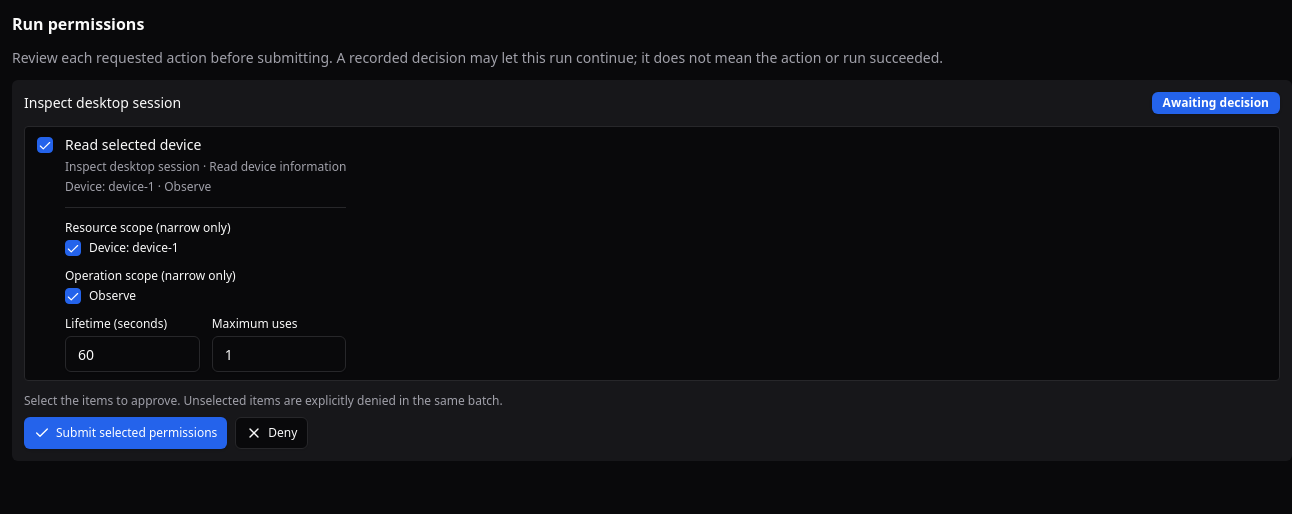
Test: scheduled run permission submission › does not retry an uncertain submission and reloads its durable state
What coordinates should you click on to do the following:
click the button "Submit selected permissions"
I would click on:
 (126, 433)
Its box is [24,417,227,449].
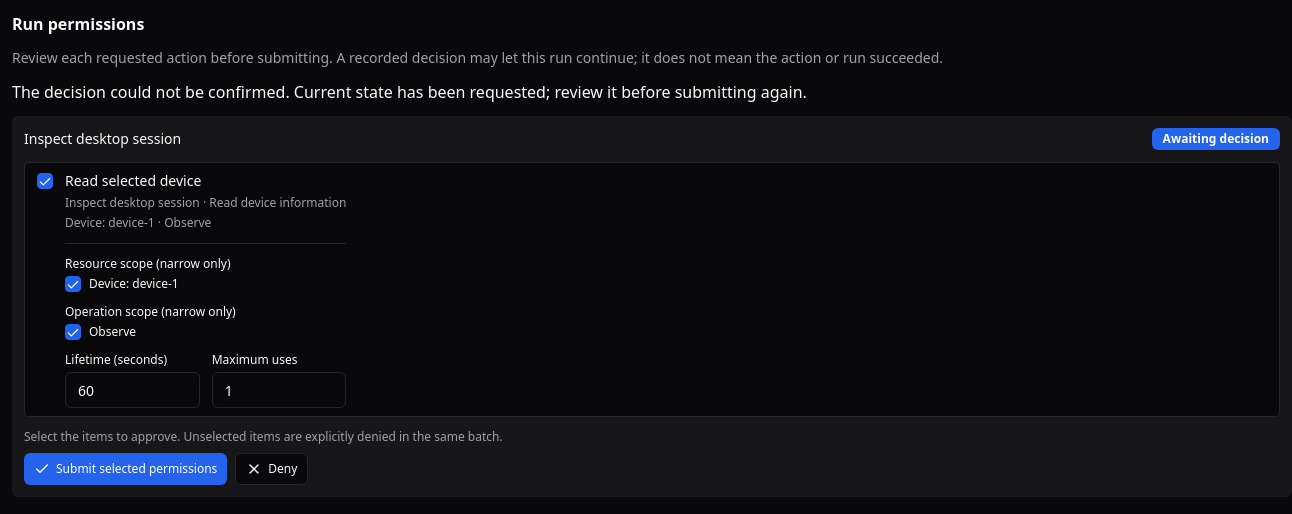
Expected: the message shows "The decision could not be confirmed.", [12,81,807,103]
